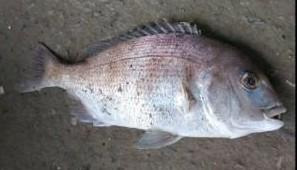fish: (15, 20, 286, 148)
